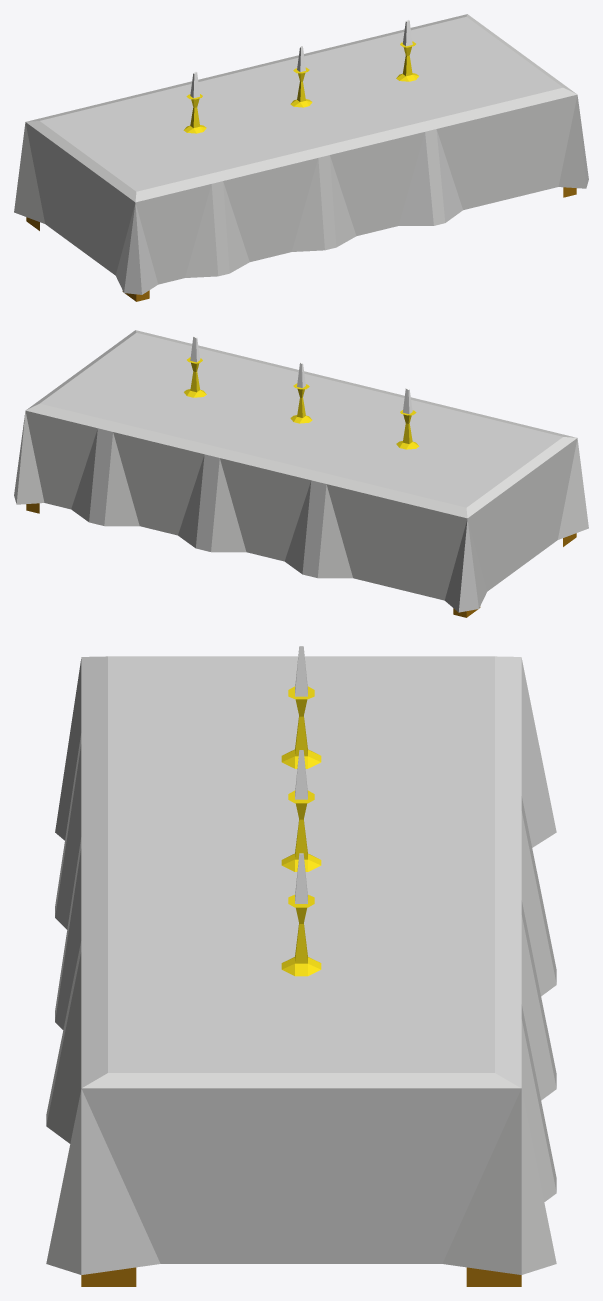
The model's file is obj_table_5_0.obj.
The picture shows the model from 3 angles, top to bottom: view 1: azimuth 30°, elevation 25°; view 2: azimuth 150°, elevation 25°; view 3: azimuth 270°, elevation 25°; orthographic projection. The views are drawn at different scales.
Bounding box in the file's own units: 3.81 × 1.27 × 1.81.
